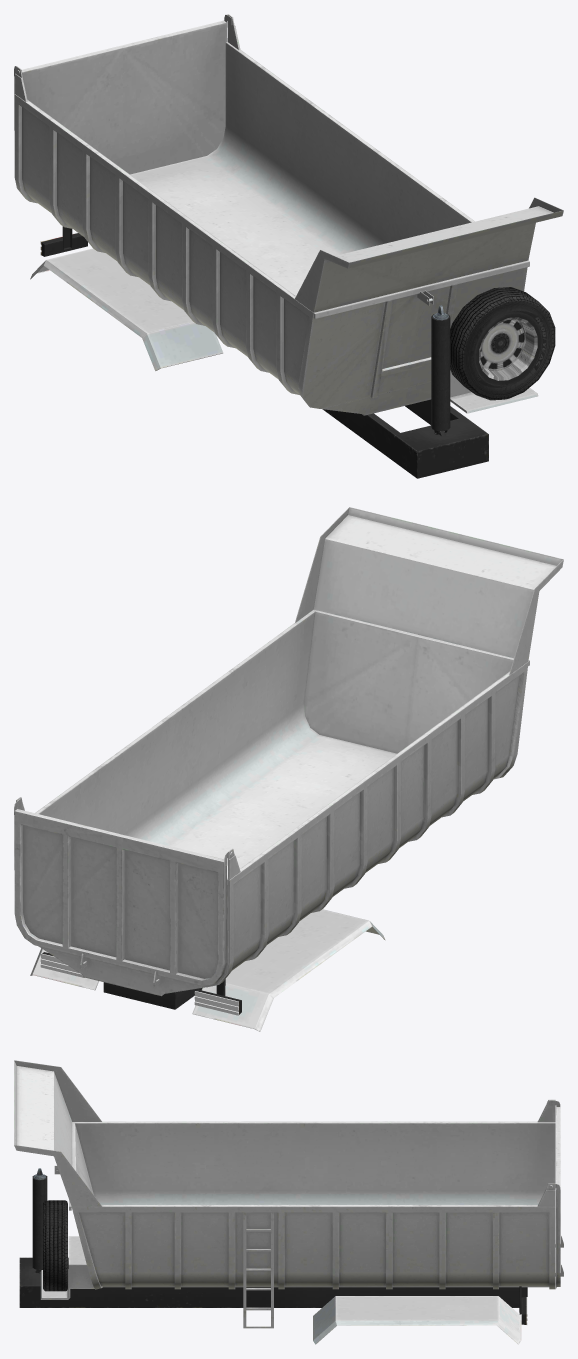
File: Trolly (2).fbx
3 renders of one model, top to bottom at view 1: azimuth 30°, elevation 25°; view 2: azimuth 150°, elevation 25°; view 3: azimuth 270°, elevation 25°, orthographic. The views are drawn at different scales.
Visible parts, largest first — view 1: BateaVolcadoraC_Batea, BateaVolcadoraC_Puerta, BateaVolcadoraC_Cama, BateaVolcadoraC__Piston; view 2: BateaVolcadoraC_Batea, BateaVolcadoraC_Puerta, BateaVolcadoraC_Cama; view 3: BateaVolcadoraC_Batea, BateaVolcadoraC_Cama, BateaVolcadoraC__Piston, BateaVolcadoraC_Puerta.
Boxes of the visible parts, bbox=[...] form: BateaVolcadoraC_Batea: bbox=[14, 14, 563, 415]; BateaVolcadoraC_Puerta: bbox=[14, 14, 232, 174]; BateaVolcadoraC_Cama: bbox=[323, 399, 488, 478]; BateaVolcadoraC__Piston: bbox=[431, 314, 450, 434]; BateaVolcadoraC_Batea: bbox=[16, 507, 563, 1031]; BateaVolcadoraC_Puerta: bbox=[14, 798, 233, 986]; BateaVolcadoraC_Cama: bbox=[103, 982, 202, 1009]; BateaVolcadoraC_Batea: bbox=[14, 1060, 555, 1344]; BateaVolcadoraC_Cama: bbox=[19, 1257, 527, 1307]; BateaVolcadoraC__Piston: bbox=[32, 1174, 47, 1273]; BateaVolcadoraC_Puerta: bbox=[548, 1100, 560, 1288].
Bounding box in the file's own units: 825 × 821 × 2081.
3 materials, 2 textured.
